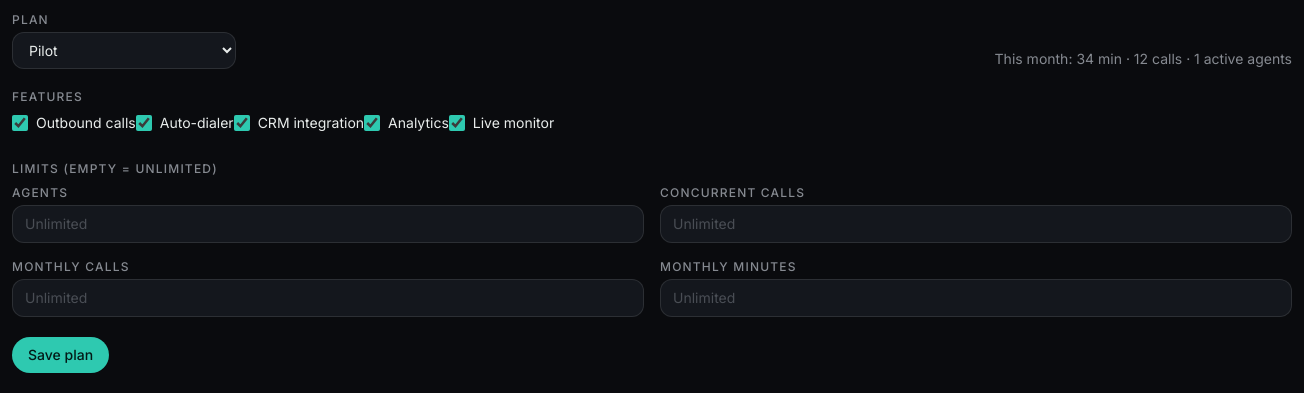
Test: PlanSection › surfaces a save error
The image size is (1304, 393).
Click the button "Save plan" at (61, 355), box top-left (12, 337), bottom-right (109, 373)
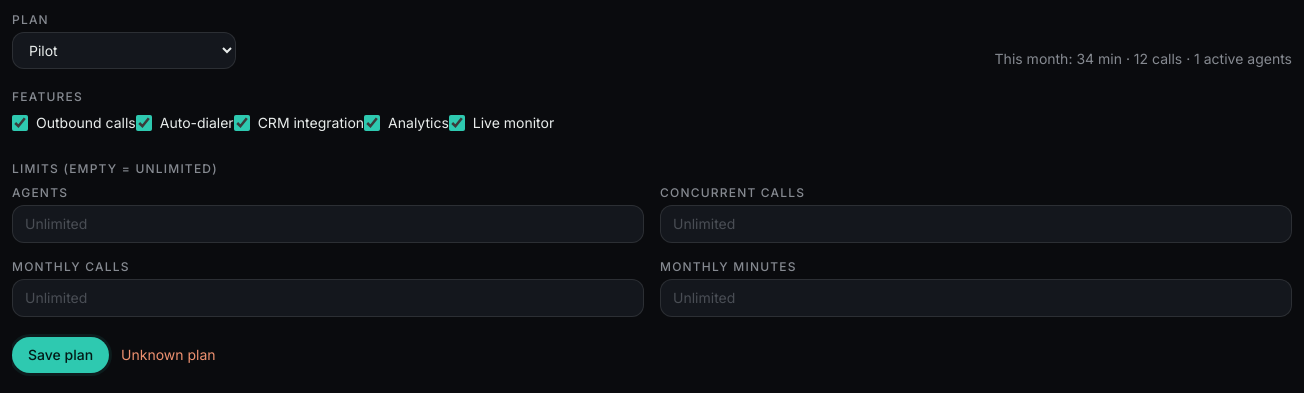
Expected: the message reads "Unknown plan", top-left (121, 346), bottom-right (216, 363)
